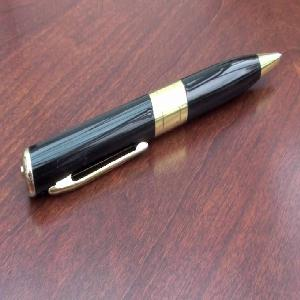pen: (17, 45, 289, 200)
